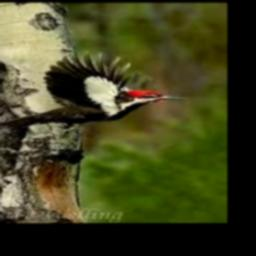Woodpecker: (0, 52, 188, 131)
